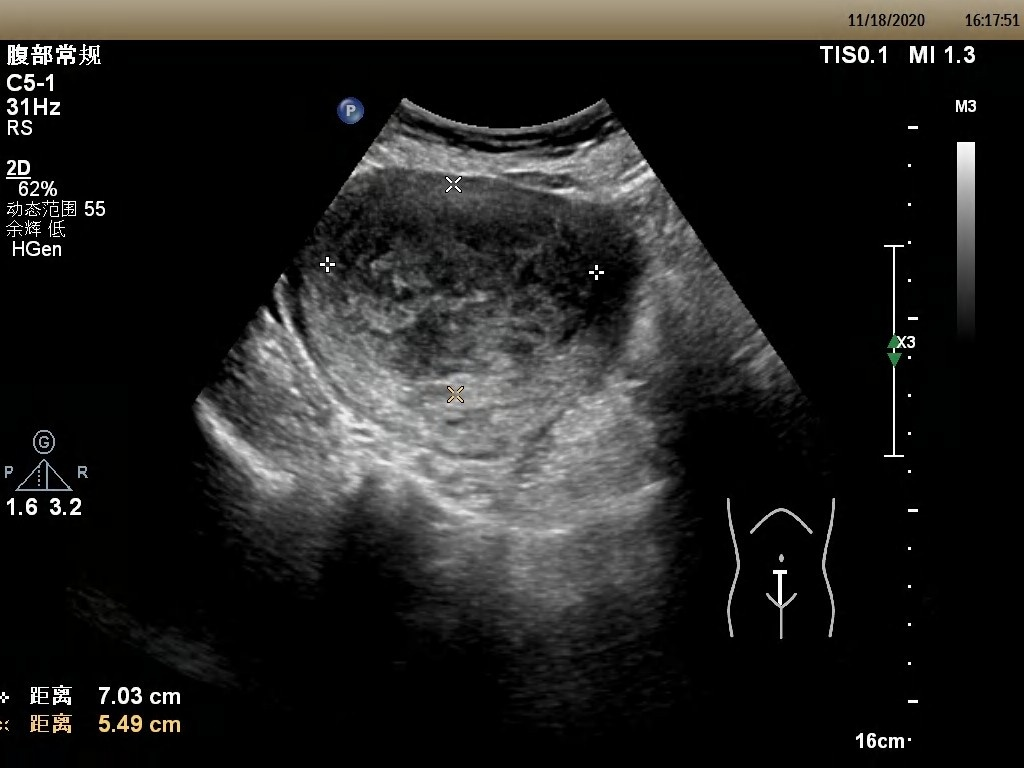肌瘤: (326, 187, 598, 385)
